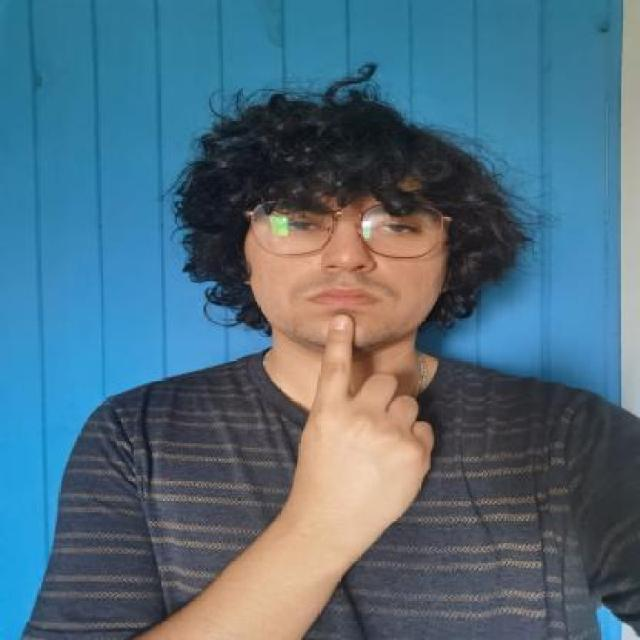T: (294, 308, 458, 537)
